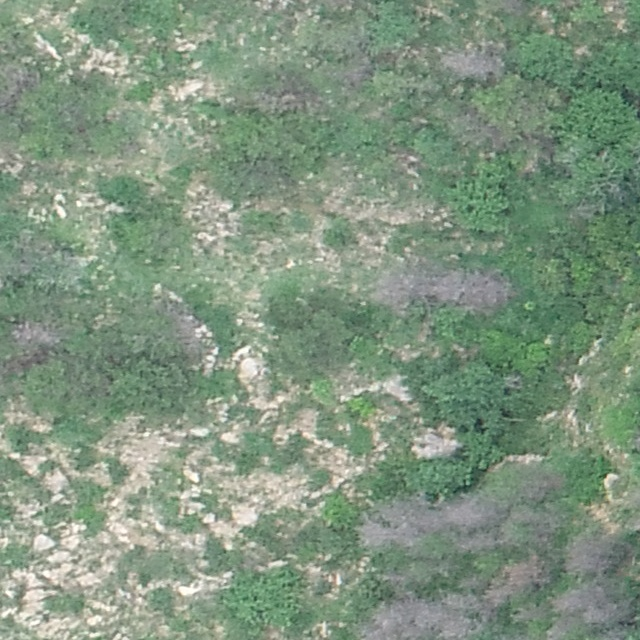unhealthy: (360, 491, 439, 552), (443, 265, 516, 317), (484, 554, 548, 606), (359, 596, 432, 640), (442, 41, 508, 82), (453, 106, 510, 153), (370, 268, 422, 316), (550, 583, 613, 620), (255, 83, 325, 116), (441, 493, 502, 530), (560, 535, 614, 576), (516, 504, 563, 544), (434, 599, 477, 640), (10, 319, 65, 349), (1, 62, 37, 105), (518, 470, 566, 501), (452, 530, 499, 553), (543, 618, 573, 640), (595, 628, 628, 640)
